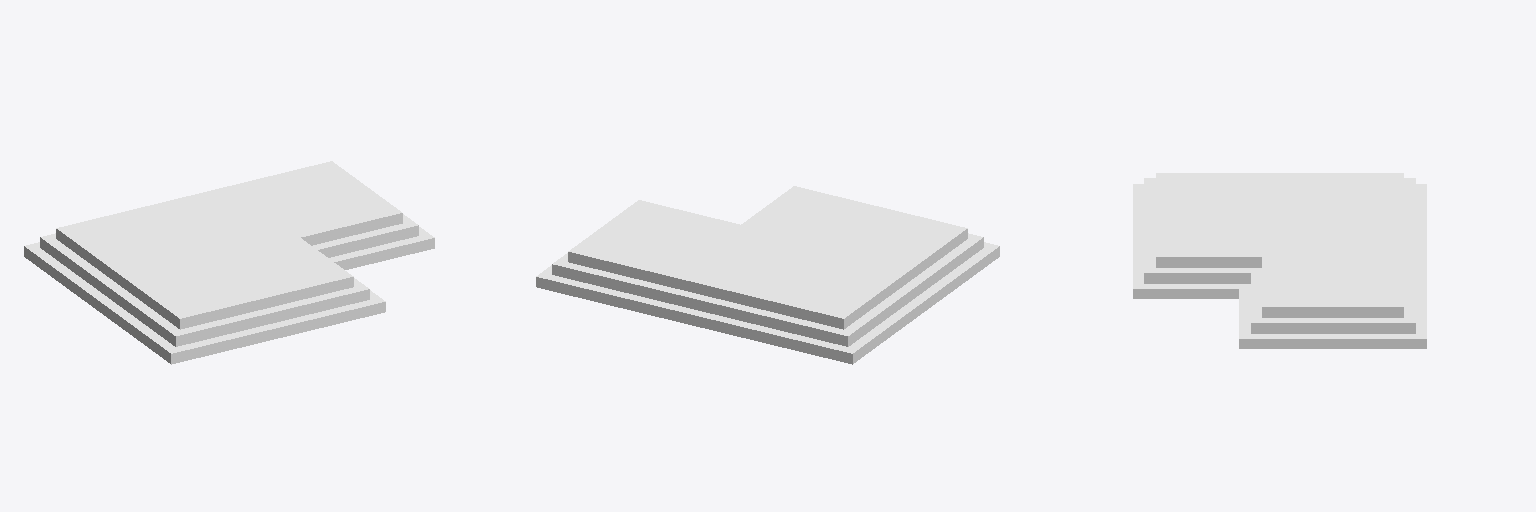
File: house.vox-1-roof.obj
3 renders of one model, left to right at view 1: azimuth 30°, elevation 25°; view 2: azimuth 150°, elevation 25°; view 3: azimuth 270°, elevation 25°, orthographic.
Visible parts, largest first — view 1: roof; view 2: roof; view 3: roof.
Boxes of the visible parts, x1=… form: roof: x1=24, y1=161, x2=434, y2=364; roof: x1=536, y1=186, x2=999, y2=364; roof: x1=1133, y1=173, x2=1426, y2=348.
Bounding box in the file's own units: 3.1 × 0.3 × 2.5.